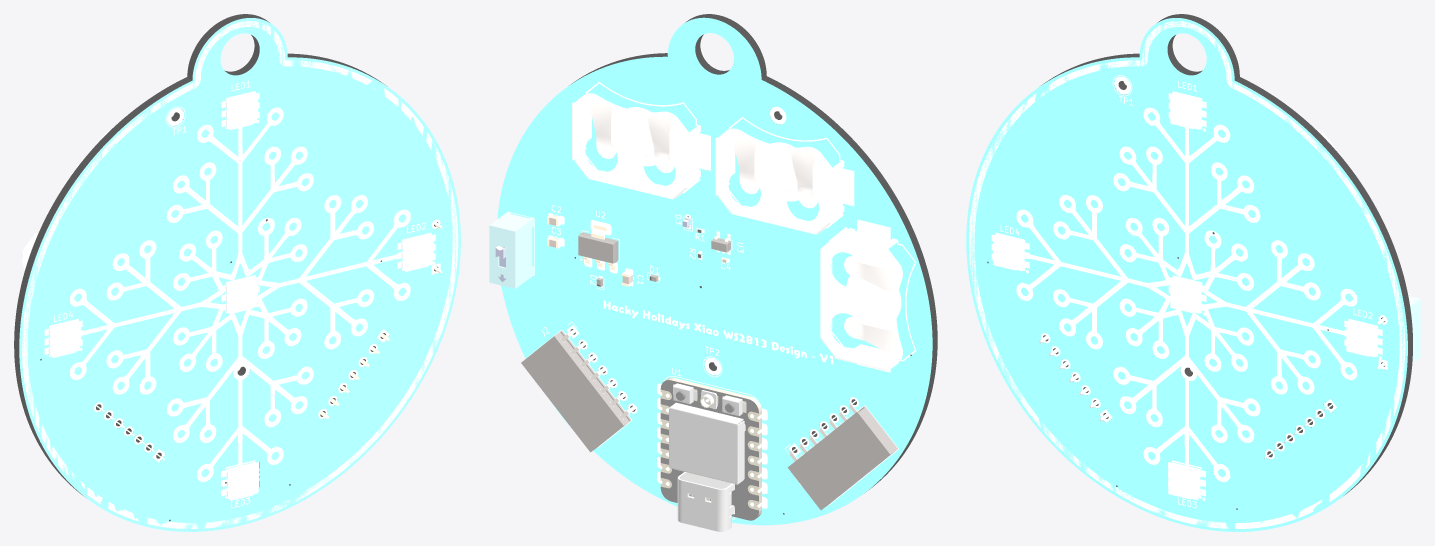
Rendered from pcb-transformed.glb.
The picture shows the model from 3 angles, left to right: view 1: azimuth 30°, elevation 25°; view 2: azimuth 150°, elevation 25°; view 3: azimuth 330°, elevation 25°; orthographic projection.
Visible parts, largest first — view 1: SHAPE_1543, SHAPE_1547, SHAPE_1542, SHAPE_1540, SHAPE_16 (×5), SHAPE_1541; view 2: SHAPE_1546, SHAPE_224 (×3), SHAPE_275 (×2), SHAPE_1540, SHAPE_1022, SHAPE_1548, SHAPE_1545, SHAPE_1044, SHAPE_722, SHAPE_145, SHAPE_1544, SHAPE_127 (+3 smaller); view 3: SHAPE_1543, SHAPE_1547, SHAPE_1542, SHAPE_1540, SHAPE_16 (×5), SHAPE_1541.
Part boxes in pixels (<box>): SHAPE_1543: <box>19,18,460,531</box>; SHAPE_1547: <box>49,80,435,508</box>; SHAPE_1542: <box>22,21,458,528</box>; SHAPE_1540: <box>14,14,438,521</box>; SHAPE_16 (×5): <box>54,98,432,496</box>; SHAPE_1541: <box>94,108,440,475</box>; SHAPE_1546: <box>497,17,932,525</box>; SHAPE_224 (×3): <box>572,93,902,371</box>; SHAPE_275 (×2): <box>521,336,890,509</box>; SHAPE_1540: <box>570,14,937,514</box>; SHAPE_1022: <box>669,408,737,483</box>; SHAPE_1548: <box>507,82,916,519</box>; SHAPE_1545: <box>548,102,901,508</box>; SHAPE_1044: <box>660,380,758,520</box>; SHAPE_722: <box>681,480,717,531</box>; SHAPE_145: <box>489,225,515,288</box>; SHAPE_1544: <box>566,106,858,455</box>; SHAPE_127: <box>515,218,533,288</box>; SHAPE_1543: <box>966,18,1407,531</box>; SHAPE_1547: <box>995,75,1381,508</box>; SHAPE_1542: <box>969,21,1405,528</box>; SHAPE_1540: <box>987,14,1412,509</box>; SHAPE_16 (×5): <box>995,99,1372,496</box>; SHAPE_1541: <box>1041,76,1387,459</box>.
Bounding box in the file's own units: 78.86 × 86.42 × 10.05.
